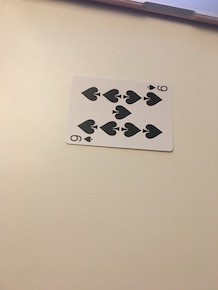NineOfSpades: (58, 71, 177, 154)
